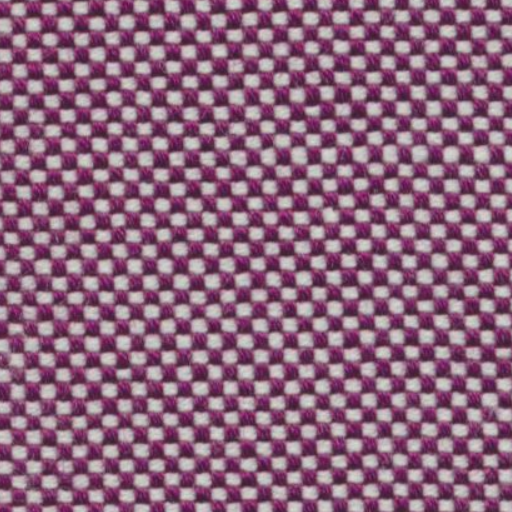TuoSha: (18, 122, 508, 190)
